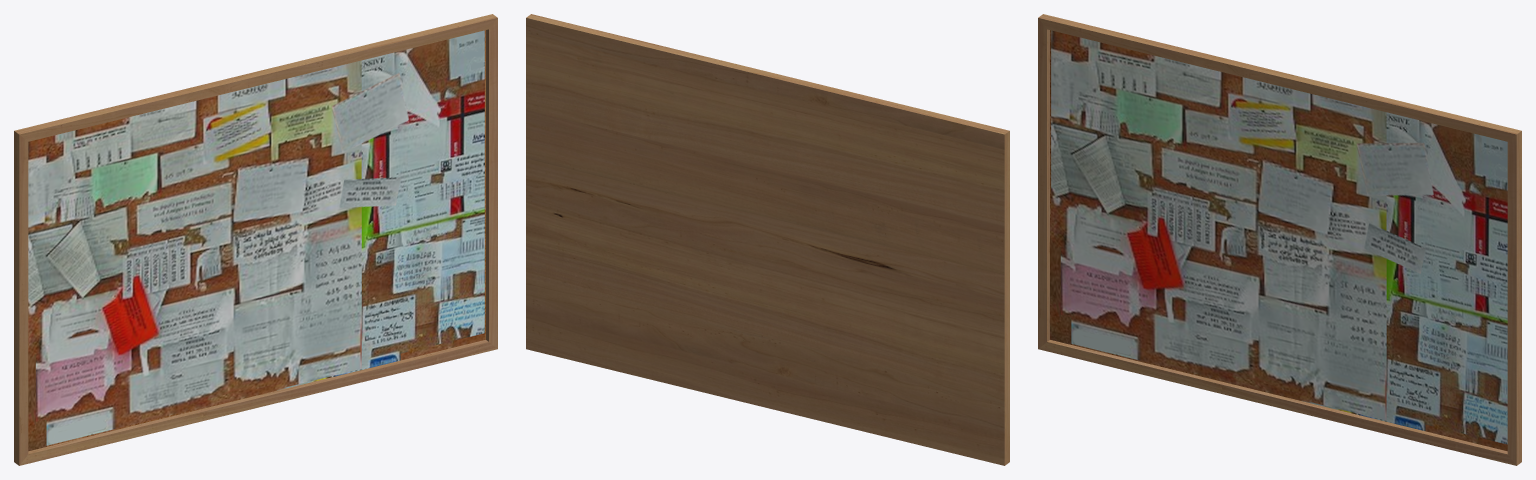
File: Notice board.fbx
The picture shows the model from 3 angles, left to right: view 1: azimuth 30°, elevation 25°; view 2: azimuth 150°, elevation 25°; view 3: azimuth 330°, elevation 25°; orthographic projection.
Parts seen in each view (by area): view 1: notice board; view 2: notice board; view 3: notice board.
Part boxes in pixels (x1,y1,x2,y2): notice board: [14, 14, 497, 465]; notice board: [526, 14, 1009, 465]; notice board: [1038, 14, 1521, 465].
Bounding box in the file's own units: 135 × 89.06 × 2.53.
1 material, 1 textured.
